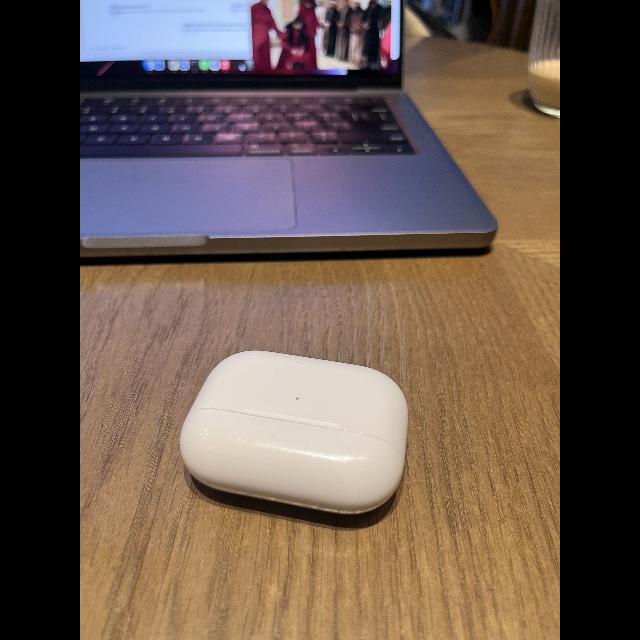AirPods Pro: (175, 345, 412, 527)
